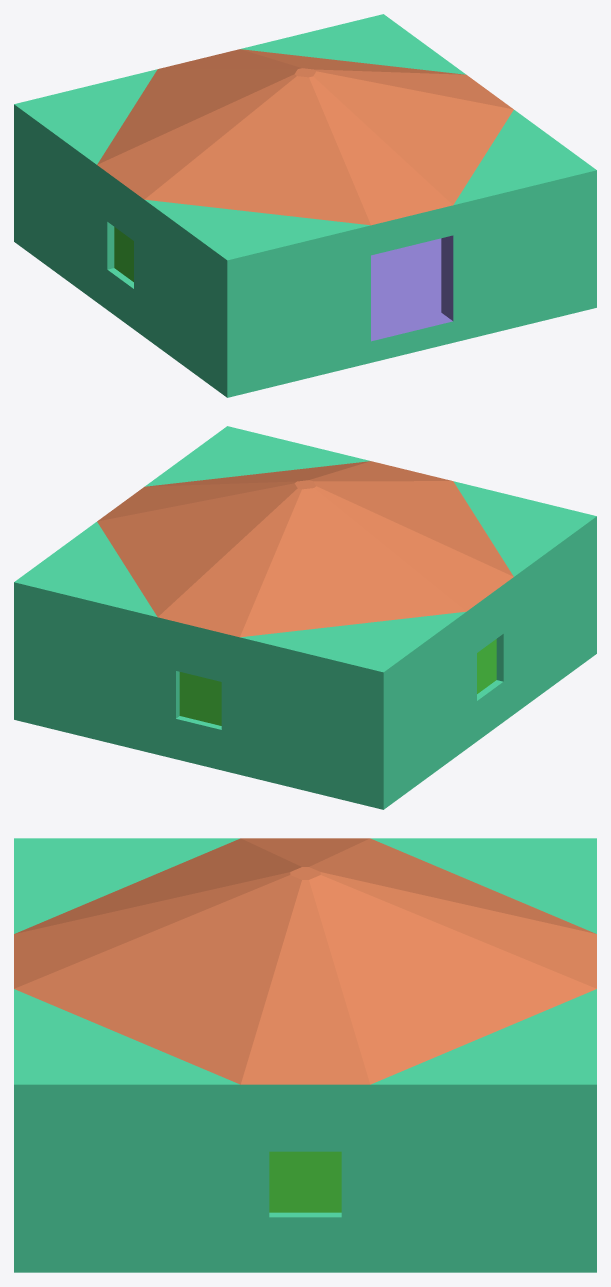
Rendered from Elevator Placeholder.fbx.
3 views of the same model, one above another, from view 1: azimuth 30°, elevation 25°; view 2: azimuth 150°, elevation 25°; view 3: azimuth 270°, elevation 25° (orthographic). The views are drawn at different scales.
Visible parts, largest first — view 1: Elevator Placeholder; view 2: Elevator Placeholder; view 3: Elevator Placeholder.
Boxes of the visible parts, box(x1,y1,x2,y2) form: Elevator Placeholder: box(14, 14, 596, 397); Elevator Placeholder: box(14, 426, 596, 809); Elevator Placeholder: box(14, 838, 596, 1272).
Size of the model in its own units: 900 by 470 by 900.
